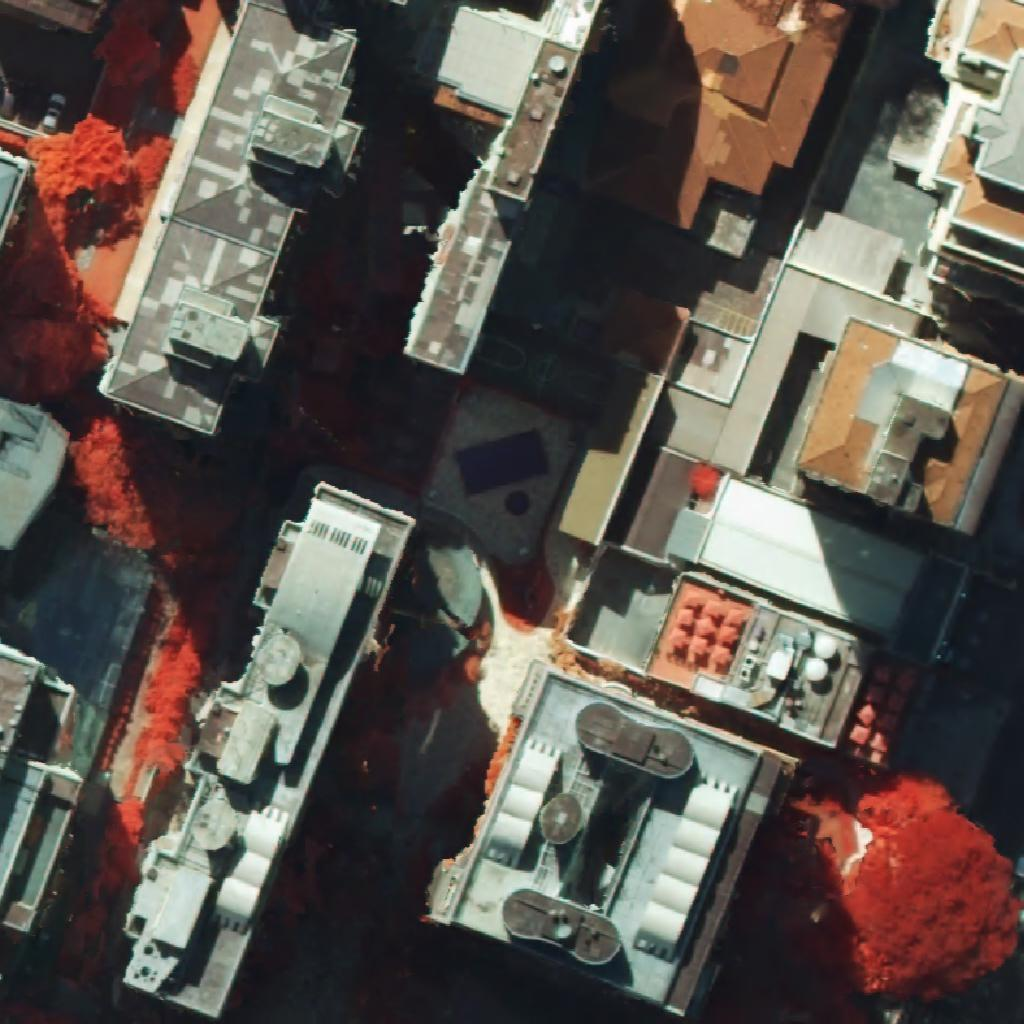pool: (456, 430, 549, 496)
